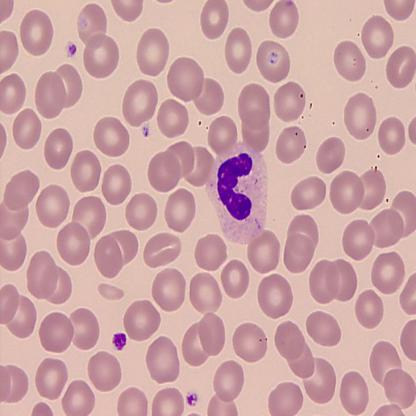Band Neutrophil: (203, 138, 269, 246)
